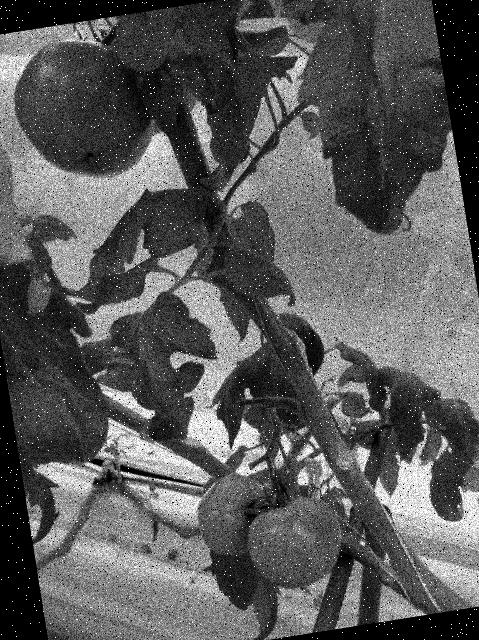b_green: (3, 28, 161, 191), (190, 468, 275, 559)
b_half_ripened: (241, 492, 347, 595)
